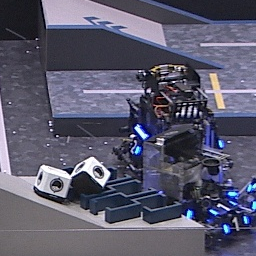Blue: (208, 199, 238, 216), (223, 216, 250, 233), (130, 139, 141, 157)
Robot: (142, 123, 256, 248), (109, 65, 227, 175)
